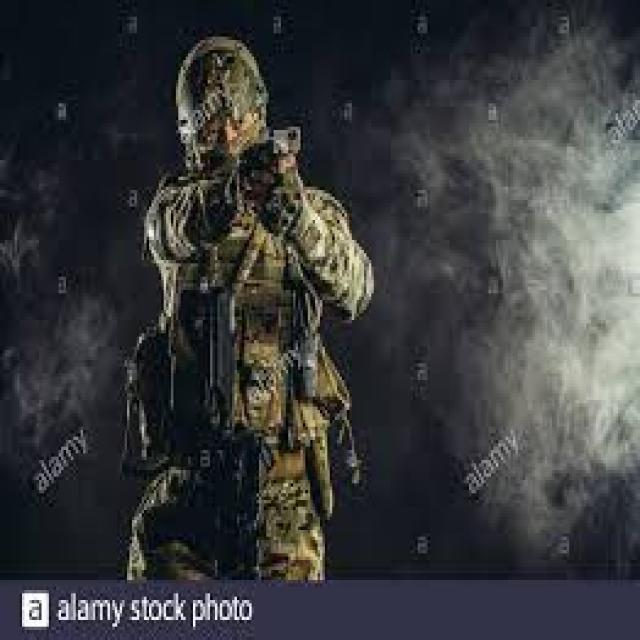soldier: (102, 40, 381, 577)
